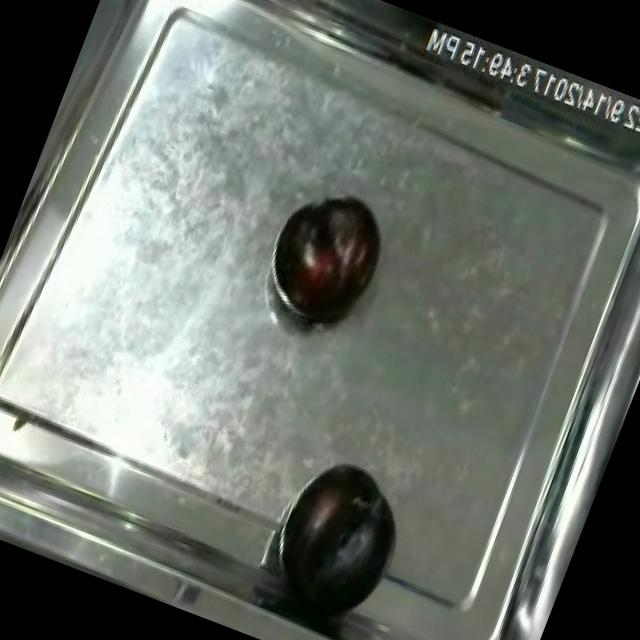Fruit: (258, 441, 426, 627), (253, 172, 405, 344)
